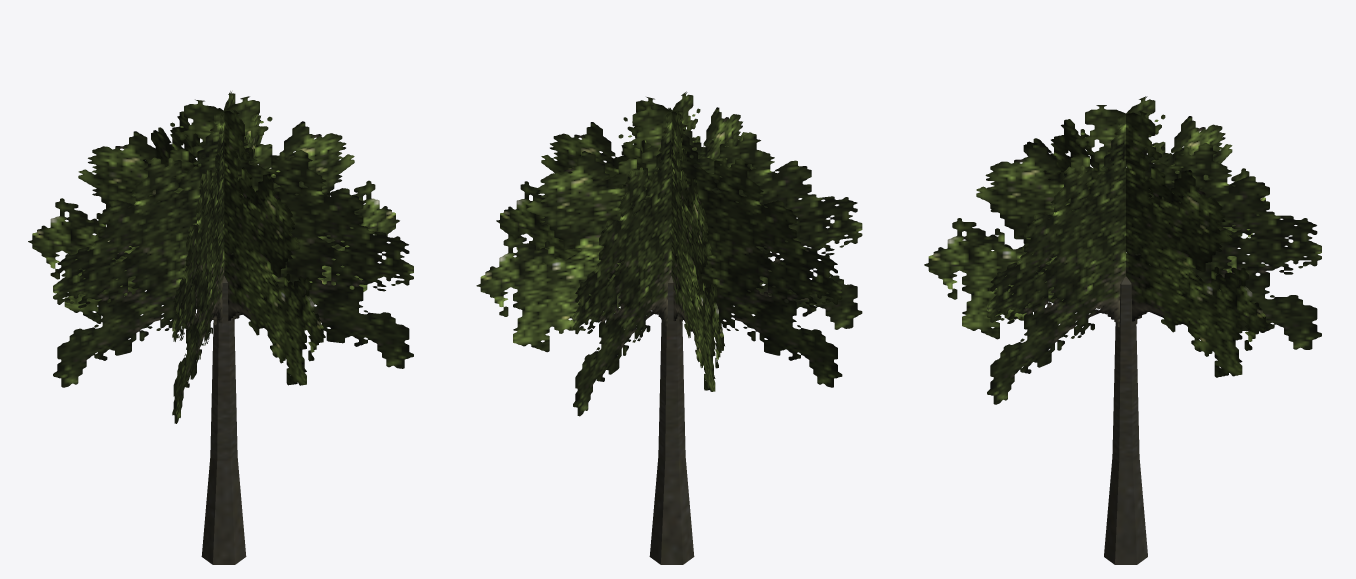
Rendered from tree27.glb.
The picture shows the model from 3 angles, left to right: view 1: azimuth 30°, elevation 25°; view 2: azimuth 150°, elevation 25°; view 3: azimuth 270°, elevation 25°; orthographic projection.
Visible parts, largest first — view 1: tree27; view 2: tree27; view 3: tree27.
Part boxes in pixels (left/top/right/bottom): tree27: left=28, top=91, right=413, bottom=564; tree27: left=476, top=91, right=862, bottom=564; tree27: left=924, top=96, right=1321, bottom=564.
Bounding box in the file's own units: 7.8 × 9 × 7.8.
Materials: 1 (1 with a texture image).
